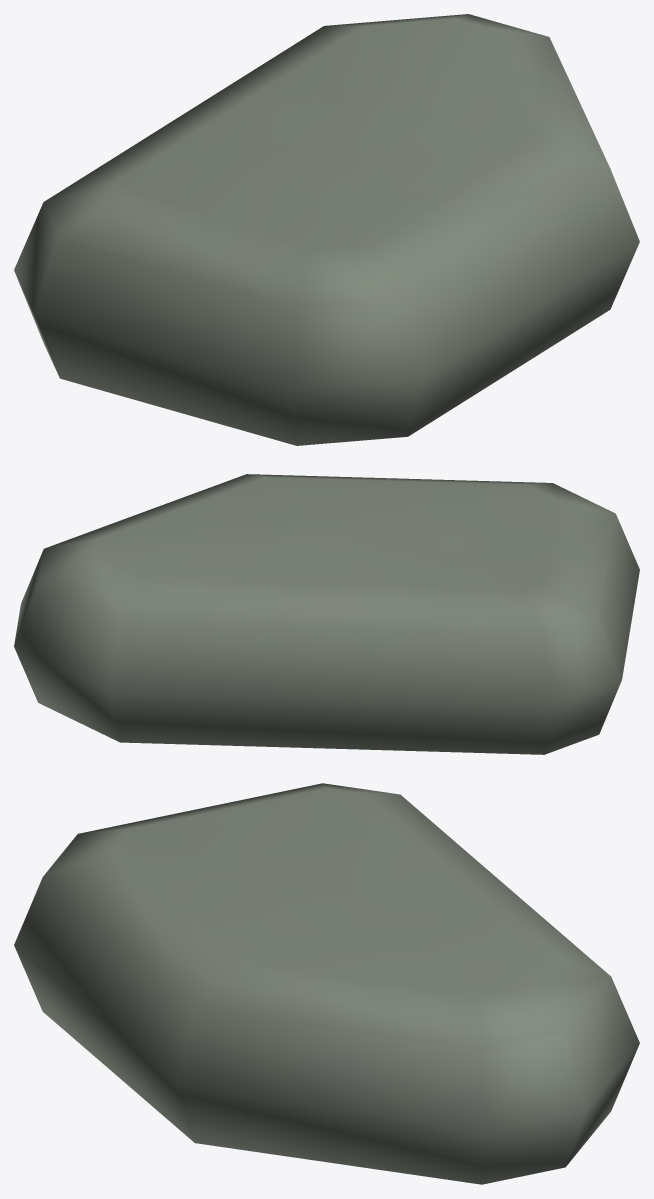
Rendered from Environment_Pebble.fbx.
3 views of the same model, one above another, from view 1: azimuth 30°, elevation 25°; view 2: azimuth 150°, elevation 25°; view 3: azimuth 270°, elevation 25° (orthographic). The views are drawn at different scales.
Parts seen in each view (by area): view 1: Rock; view 2: Rock; view 3: Rock.
Boxes of the visible parts, x1,y1,x2,y2 form: Rock: (14,14,639,445); Rock: (14,474,639,754); Rock: (14,783,639,1184).
Bounding box in the file's own units: 1.5 × 0.4378 × 1.36.
